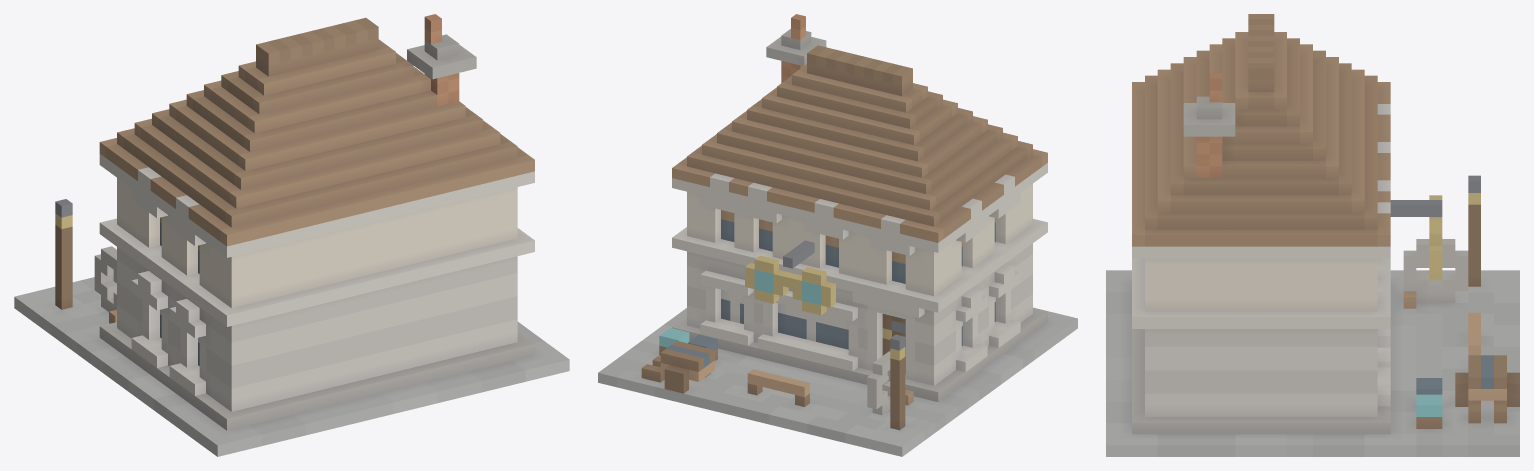
File: optician.glb
3 renders of one model, left to right at view 1: azimuth 30°, elevation 25°; view 2: azimuth 150°, elevation 25°; view 3: azimuth 270°, elevation 25°, orthographic. The views are drawn at different scales.
Parts seen in each view (by area): view 1: optician; view 2: optician; view 3: optician.
Boxes of the visible parts, x1,y1,x2,y2 form: optician: (14,14,569,456); optician: (598,14,1077,456); optician: (1106,14,1519,456).
Bounding box in the file's own units: 4 × 3.62 × 4.
